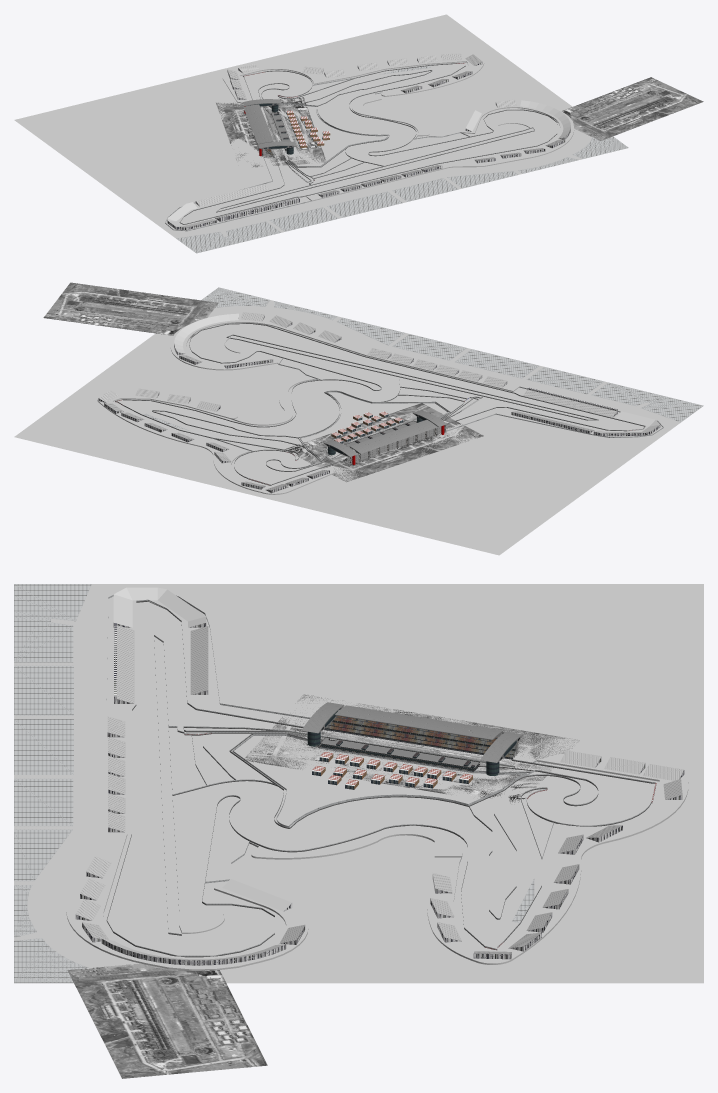
File: AutoSave_Shangai+International+circuit+GP+Track[1].glb
3 views of the same model, one above another, from view 1: azimuth 30°, elevation 25°; view 2: azimuth 150°, elevation 25°; view 3: azimuth 270°, elevation 25° (orthographic). The views are drawn at different scales.
Visible parts, largest first — view 1: _(Loose Entity), G-Google Earth Terrain.001, G-Google Earth Snapshot.001, G-Google Earth Terrain.002, C-CANZ06#2; view 2: _(Loose Entity), G-Google Earth Terrain.001, G-Google Earth Snapshot.001, C-CANZ06#2, C-CANZ1; view 3: _(Loose Entity), G-Google Earth Terrain.001, G-Google Earth Snapshot.001, G-Google Earth Terrain.002, C-CANZ1, C-CANZ06#2, _C-Component#5 (Loose Mesh).
Boxes of the visible parts, x1=… form: _(Loose Entity): x1=14, y1=14, x2=628, y2=253; G-Google Earth Terrain.001: x1=548, y1=77, x2=703, y2=140; G-Google Earth Snapshot.001: x1=216, y1=97, x2=325, y2=166; G-Google Earth Terrain.002: x1=216, y1=97, x2=318, y2=167; C-CANZ06#2: x1=243, y1=104, x2=273, y2=144; _(Loose Entity): x1=14, y1=287, x2=703, y2=555; G-Google Earth Terrain.001: x1=43, y1=282, x2=218, y2=338; G-Google Earth Snapshot.001: x1=285, y1=403, x2=483, y2=482; C-CANZ06#2: x1=349, y1=419, x2=437, y2=453; C-CANZ1: x1=342, y1=426, x2=441, y2=464; _(Loose Entity): x1=14, y1=584, x2=703, y2=983; G-Google Earth Terrain.001: x1=67, y1=963, x2=267, y2=1078; G-Google Earth Snapshot.001: x1=246, y1=694, x2=579, y2=802; G-Google Earth Terrain.002: x1=245, y1=694, x2=576, y2=804; C-CANZ1: x1=324, y1=715, x2=519, y2=759; C-CANZ06#2: x1=335, y1=705, x2=503, y2=740; _C-Component#5 (Loose Mesh): x1=320, y1=737, x2=479, y2=768.
Bounding box in the file's own units: 2500 × 46.04 × 1473.
Materials: 37 (28 with a texture image).
